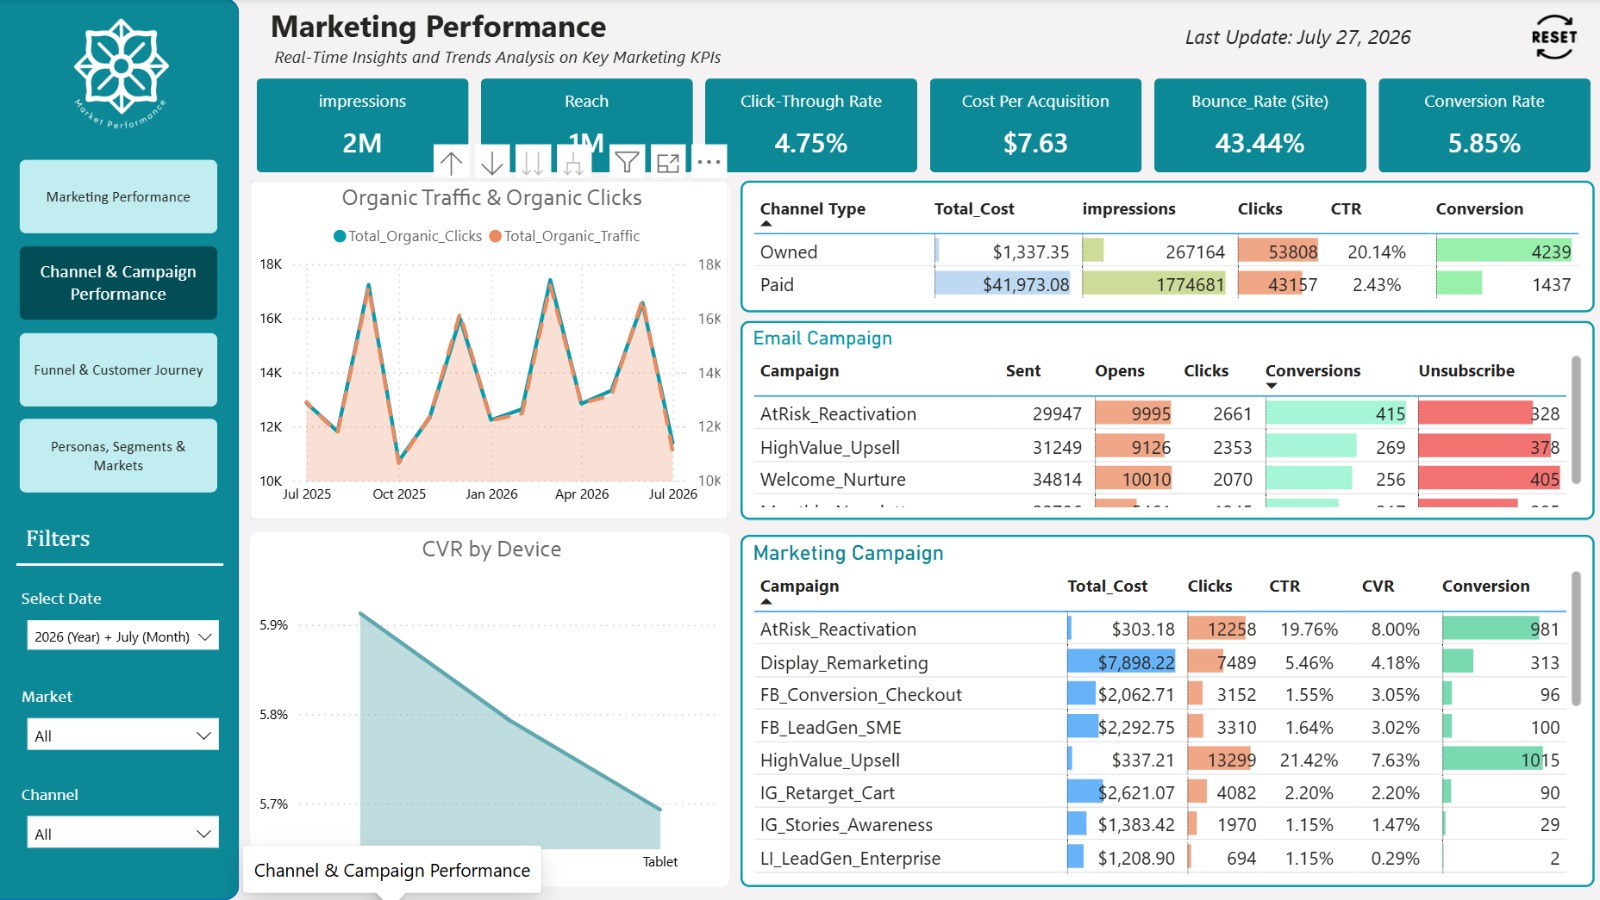

The dashboard page shown, as its layout file describes it:
{"tool":"powerbi","page":{"name":"Channel & Campaign Performance","canvas":[1280,720],"ordinal":1},"visuals":[{"type":"shape","box":[0,0,192,720],"z":0,"group":"g2"},{"type":"cardVisual","fields":{"Data":["AA_Measures.impressions_Marketing","AA_Measures.Overall_Reach","AA_Measures.Overall_CTR","AA_Measures.Overall_CPA","AA_Measures.Bounce_Rate_GA4","AA_Measures.Overall_CVR"]},"box":[200.9,59.1,1076.5,85.3],"z":0},{"type":"textbox","box":[211.4,0,399.1,69.6],"z":1000},{"type":"textbox","box":[937.4,14.4,203.5,34.1],"z":2000},{"type":"actionButton","box":[1210.5,0,63,61.7],"z":3000},{"type":"group","id":"g1","title":"Group 6","box":[0,0,192,720],"z":4000},{"type":"tableEx","fields":{"Values":["ChannelDim.ChannelType","AA_Measures.Total_Cost","AA_Measures.Total_impressions","AA_Measures.Total_Clicks","AA_Measures.CTR","AA_Measures.Total_Conversion"]},"box":[592.1,145.7,681.4,105],"z":5000},{"type":"tableEx","title":"Marketing Campaign","fields":{"Values":["DimCampaigns.Campaign","AA_Measures.Total_Cost","AA_Measures.Total_Clicks","AA_Measures.CTR","AA_Measures.CVR","AA_Measures.Total_Conversion"]},"box":[592.1,428,681.4,281],"z":6000},{"type":"slicer","title":"Select Date","fields":{"Values":["Calendar.Date.Variation.Date Hierarchy.Year","Calendar.Date.Variation.Date Hierarchy.Month"]},"box":[7.9,466.1,177.2,65.6],"z":6500,"group":"g2"},{"type":"areaChart","title":"CVR by Device","fields":{"Category":["MarketingActivity.Device"],"Y":["AA_Measures.Overall_CVR"]},"box":[200.9,425.4,382,283.6],"z":7000},{"type":"slicer","title":"Market","fields":{"Values":["Markets.Country"]},"box":[7.9,543.5,177.2,65.6],"z":7000,"group":"g2"},{"type":"group","id":"g2","title":"Group 5","box":[0,0,192,720],"z":7500,"group":"g1"},{"type":"slicer","title":"Channel","fields":{"Values":["ChannelDim.Channel"]},"box":[7.9,622.3,177.2,65.6],"z":7500,"group":"g2"},{"type":"tableEx","title":"Email Campaign","fields":{"Values":["EmailMarketing.Campaign","AA_Measures.Sent_Email","AA_Measures.Opens_Email","AA_Measures.Clicks_Email","AA_Measures.Conversions_Email","AA_Measures.Unsubscribe_Email"]},"box":[592.1,257.3,681.4,158.9],"z":8000},{"type":"textbox","box":[17.1,416.2,116.8,36.8],"z":8000,"group":"g2"},{"type":"shape","box":[14.4,449,165.4,6.6],"z":8500,"group":"g2"},{"type":"image","box":[39.4,15.8,114.2,90.6],"z":9000,"group":"g2"},{"type":"areaChart","title":"Organic Traffic & Organic Clicks","fields":{"Category":["Calendar.YearMonth.Variation.Date Hierarchy.Year","Calendar.YearMonth.Variation.Date Hierarchy.Month"],"Y":["AA_Measures.Total_Organic_Clicks"],"Y2":["AA_Measures.Total_Organic_Traffic"]},"box":[200.9,145.7,382,270.4],"z":9000},{"type":"pageNavigator","box":[17.1,128.7,158.9,269.1],"z":12000,"group":"g1"}]}

Visuals, with their boxes in screenshot pixels (x1, y1, x2, y2), scaled from the page's 1280x720 canvas onto the 1600x900 screenshot:
shape: x1=0, y1=0, x2=240, y2=899
cardVisual - AA_Measures.impressions_Marketing x AA_Measures.Overall_Reach: x1=251, y1=74, x2=1597, y2=180
textbox: x1=264, y1=0, x2=763, y2=87
textbox: x1=1172, y1=18, x2=1426, y2=61
actionButton: x1=1513, y1=0, x2=1592, y2=77
"Group 6" group: x1=0, y1=0, x2=240, y2=899
tableEx - ChannelDim.ChannelType x AA_Measures.Total_Cost: x1=740, y1=182, x2=1592, y2=313
"Marketing Campaign" tableEx: x1=740, y1=535, x2=1592, y2=886
"Select Date" slicer: x1=10, y1=583, x2=231, y2=665
"CVR by Device" areaChart: x1=251, y1=532, x2=729, y2=886
"Market" slicer: x1=10, y1=679, x2=231, y2=761
"Group 5" group: x1=0, y1=0, x2=240, y2=899
"Channel" slicer: x1=10, y1=778, x2=231, y2=860
"Email Campaign" tableEx: x1=740, y1=322, x2=1592, y2=520
textbox: x1=21, y1=520, x2=167, y2=566
shape: x1=18, y1=561, x2=225, y2=570
image: x1=49, y1=20, x2=192, y2=133
"Organic Traffic & Organic Clicks" areaChart: x1=251, y1=182, x2=729, y2=520
pageNavigator: x1=21, y1=161, x2=220, y2=497
